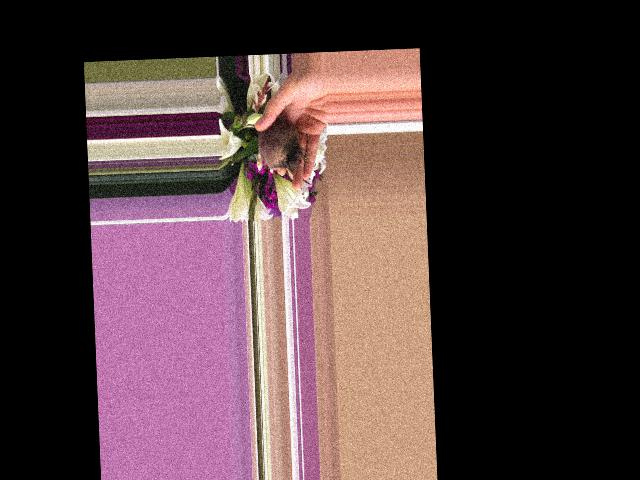beet: (236, 115, 302, 173)
